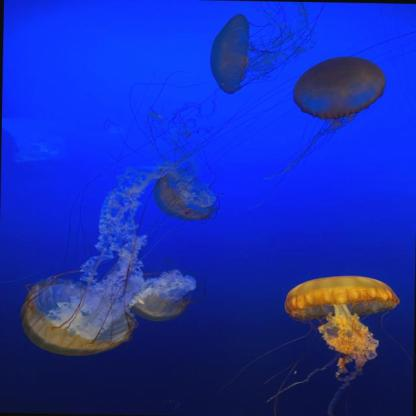jellyfish: (20, 277, 131, 357), (292, 54, 386, 121), (284, 273, 400, 322), (208, 11, 252, 96), (150, 171, 215, 225), (126, 282, 194, 322)
